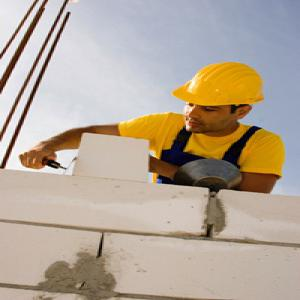yellow: (183, 61, 265, 133)
